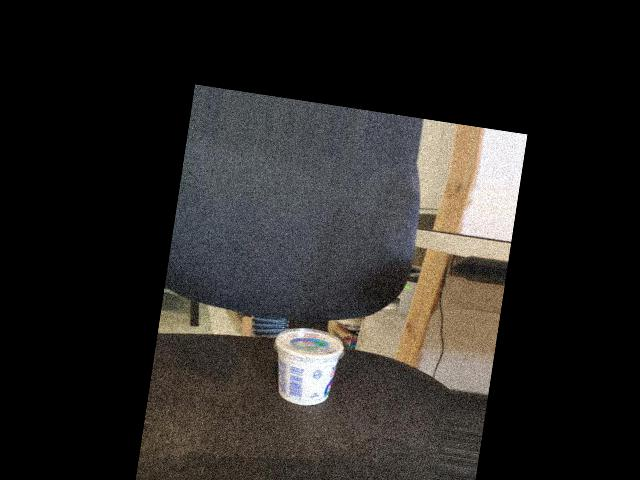cotage: (268, 321, 344, 416)
